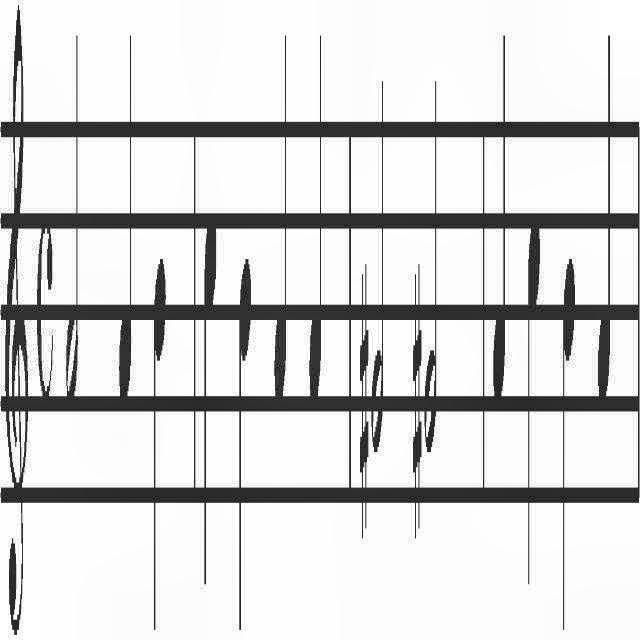Bass-clef: (4, 0, 28, 640)
Diez: (412, 264, 422, 546), (359, 264, 369, 540)
Half-note: (423, 66, 439, 474), (65, 25, 81, 422), (370, 70, 386, 460)
Quarter-note: (492, 22, 508, 416), (561, 247, 577, 638), (236, 254, 252, 638), (118, 12, 132, 420), (152, 240, 166, 640), (309, 25, 323, 419), (273, 34, 287, 426), (597, 25, 611, 413), (527, 225, 541, 600), (204, 209, 216, 603)
